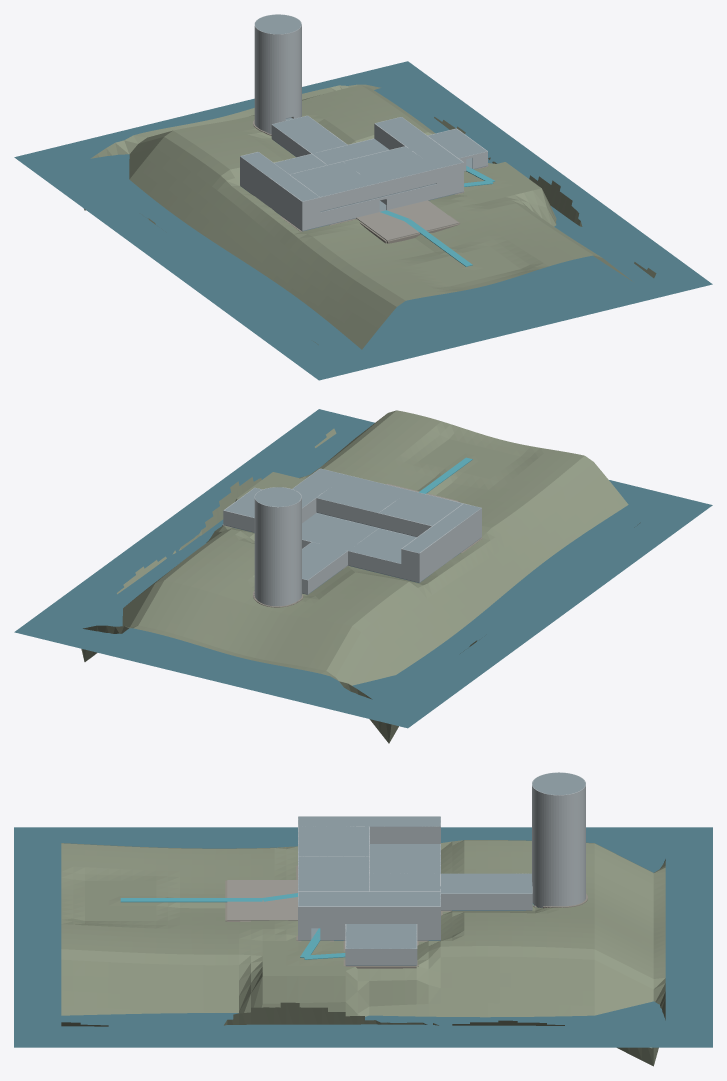
File: open-circulation.glb
The picture shows the model from 3 angles, top to bottom: view 1: azimuth 30°, elevation 25°; view 2: azimuth 150°, elevation 25°; view 3: azimuth 270°, elevation 25°; orthographic projection. The views are drawn at different scales.
Parts seen in each view (by area): view 1: WATER PLACEHOLDER / layers and transparency pending, Saved editor occupied-room terrain WLD-14, Ceiling cap study, Ceiling cap bed, Ceiling cap upperhall, Ceiling cap passage, Ceiling cap service-upper, Wall service-stair W, Ceiling cap store, Wall service-upper W, Wall study S, Ceiling cap generator (+10 smaller); view 2: Saved editor occupied-room terrain WLD-14, WATER PLACEHOLDER / layers and transparency pending, Ceiling cap study, Ceiling cap store, Ceiling cap bed, Ceiling cap workroom, Ceiling cap service-upper, Wall service-stair W, Ceiling cap passage, Wall service-upper W, Wall study N, Ceiling cap upperhall (+10 smaller); view 3: Saved editor occupied-room terrain WLD-14, WATER PLACEHOLDER / layers and transparency pending, Ceiling cap study, Wall upperhall E, Ceiling cap bed, Ceiling cap upperhall, Ceiling cap workroom, Ceiling cap passage, Ceiling cap generator, Ceiling cap service-upper, Wall passage E, Ceiling cap store (+14 smaller).
Boxes of the visible parts, left/top/right/bottom form: WATER PLACEHOLDER / layers and transparency pending: left=14, top=61, right=712, bottom=380; Saved editor occupied-room terrain WLD-14: left=84, top=84, right=656, bottom=349; Ceiling cap study: left=343, top=146, right=436, bottom=183; Ceiling cap bed: left=290, top=161, right=373, bottom=196; Ceiling cap upperhall: left=375, top=117, right=462, bottom=168; Ceiling cap passage: left=272, top=115, right=346, bottom=153; Ceiling cap service-upper: left=241, top=152, right=319, bottom=201; Wall service-stair W: left=240, top=170, right=302, bottom=230; Ceiling cap store: left=313, top=138, right=389, bottom=164; Wall service-upper W: left=240, top=156, right=302, bottom=215; Wall study S: left=374, top=169, right=436, bottom=198; Ceiling cap generator: left=428, top=129, right=486, bottom=158; Saved editor occupied-room terrain WLD-14: left=81, top=410, right=640, bottom=743; WATER PLACEHOLDER / layers and transparency pending: left=14, top=409, right=712, bottom=728; Ceiling cap study: left=317, top=475, right=409, bottom=512; Ceiling cap store: left=302, top=513, right=377, bottom=550; Ceiling cap bed: left=379, top=490, right=462, bottom=525; Ceiling cap workroom: left=348, top=528, right=416, bottom=563; Ceiling cap service-upper: left=402, top=504, right=480, bottom=552; Wall service-stair W: left=419, top=522, right=481, bottom=582; Ceiling cap passage: left=302, top=542, right=346, bottom=579; Wall service-upper W: left=419, top=508, right=481, bottom=567; Wall study N: left=316, top=498, right=378, bottom=527; Ceiling cap upperhall: left=292, top=468, right=346, bottom=507; Saved editor occupied-room terrain WLD-14: left=61, top=840, right=665, bottom=1066; WATER PLACEHOLDER / layers and transparency pending: left=14, top=827, right=712, bottom=1047; Ceiling cap study: left=298, top=856, right=369, bottom=891; Wall upperhall E: left=298, top=906, right=440, bottom=922; Ceiling cap bed: left=298, top=826, right=369, bottom=856; Ceiling cap upperhall: left=298, top=892, right=440, bottom=906; Ceiling cap workroom: left=370, top=844, right=440, bottom=873; Ceiling cap passage: left=440, top=873, right=532, bottom=893; Ceiling cap generator: left=345, top=924, right=416, bottom=948; Ceiling cap service-upper: left=298, top=816, right=440, bottom=826; Wall passage E: left=441, top=893, right=532, bottom=909; Ceiling cap store: left=370, top=873, right=440, bottom=891.
Bounding box in the file's own units: 88 × 38.28 × 118.
